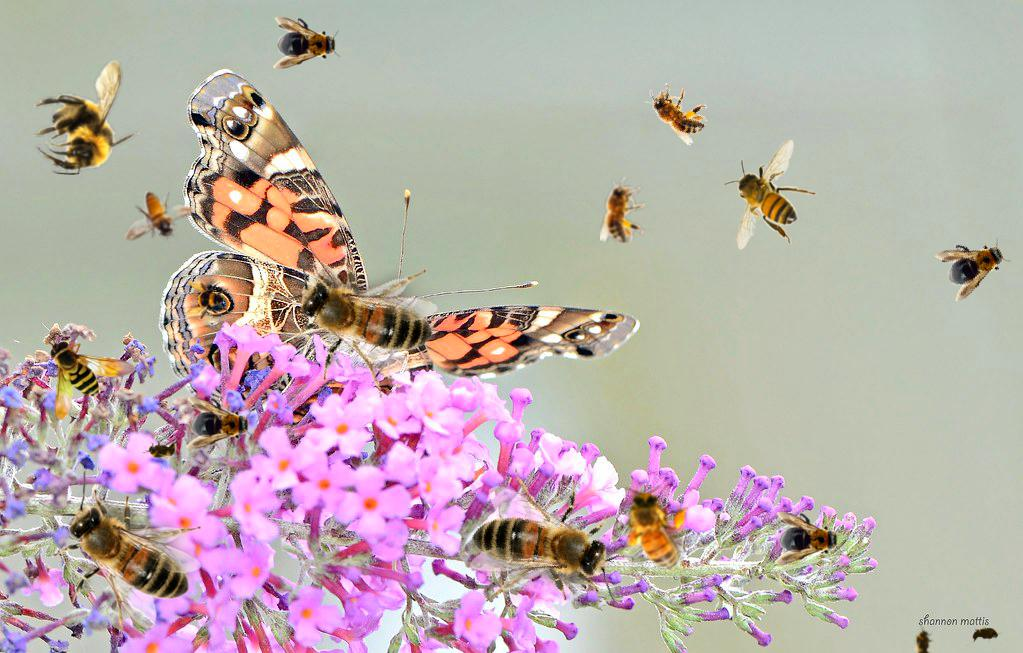Bee: (441, 434, 658, 653), (254, 215, 459, 423), (39, 470, 201, 637), (33, 60, 140, 175), (723, 139, 817, 250), (612, 481, 694, 584), (48, 338, 136, 420), (932, 225, 1018, 303), (636, 73, 716, 148), (125, 191, 196, 241), (186, 397, 254, 449), (775, 512, 843, 564), (273, 17, 341, 69), (600, 177, 645, 243), (185, 279, 229, 323), (141, 438, 183, 462), (966, 624, 1006, 646), (913, 624, 935, 653)
